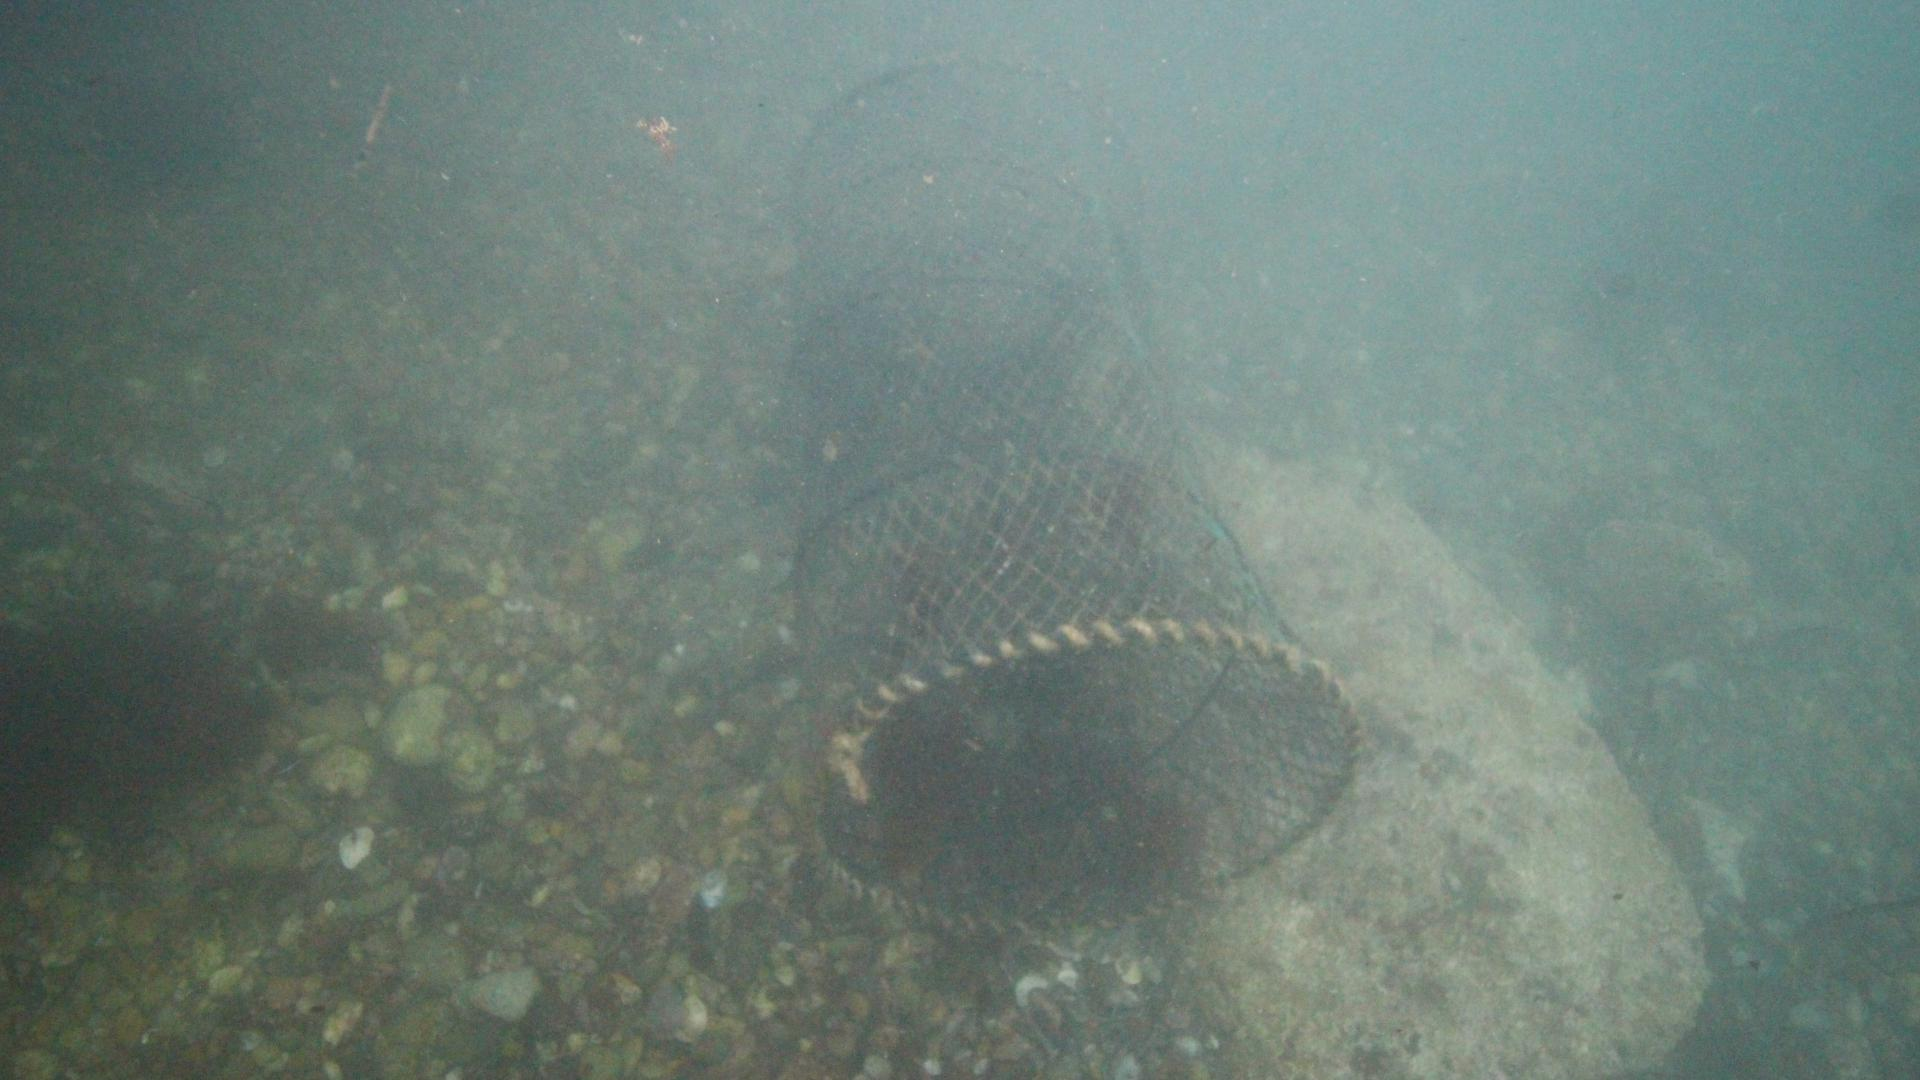spring fish trap: (789, 59, 1364, 934)
